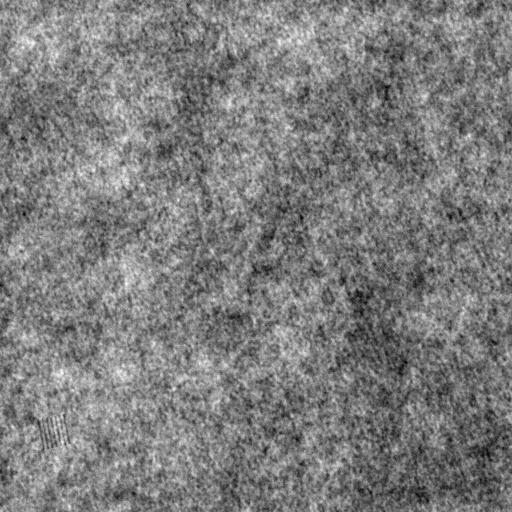DefectTypeB: (37, 413, 70, 450)
